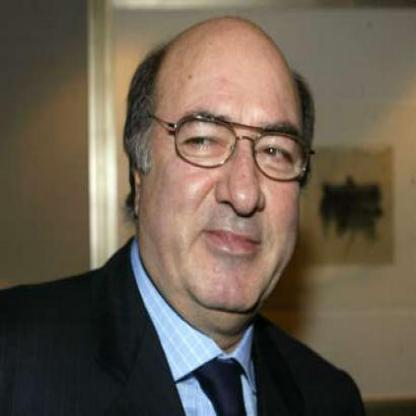face: (143, 21, 319, 320)
